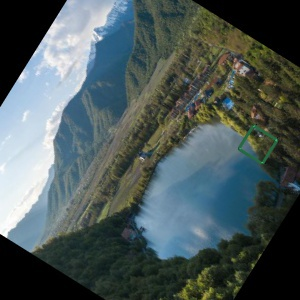square: (236, 122, 281, 166)
